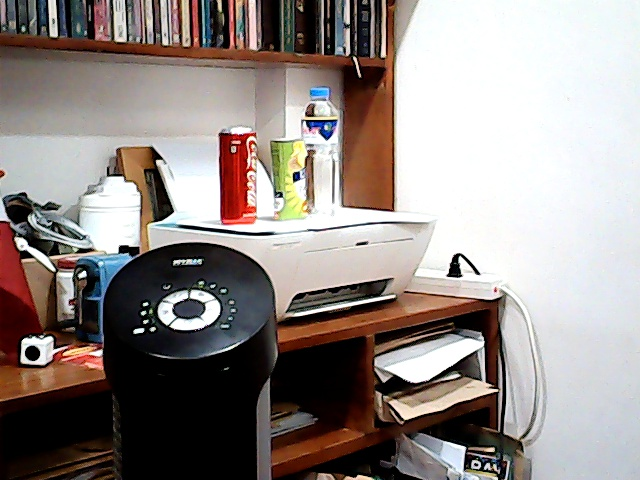Cola: (217, 122, 261, 224)
Pine Juice: (270, 138, 306, 216)
Summit Water: (300, 87, 341, 213)
